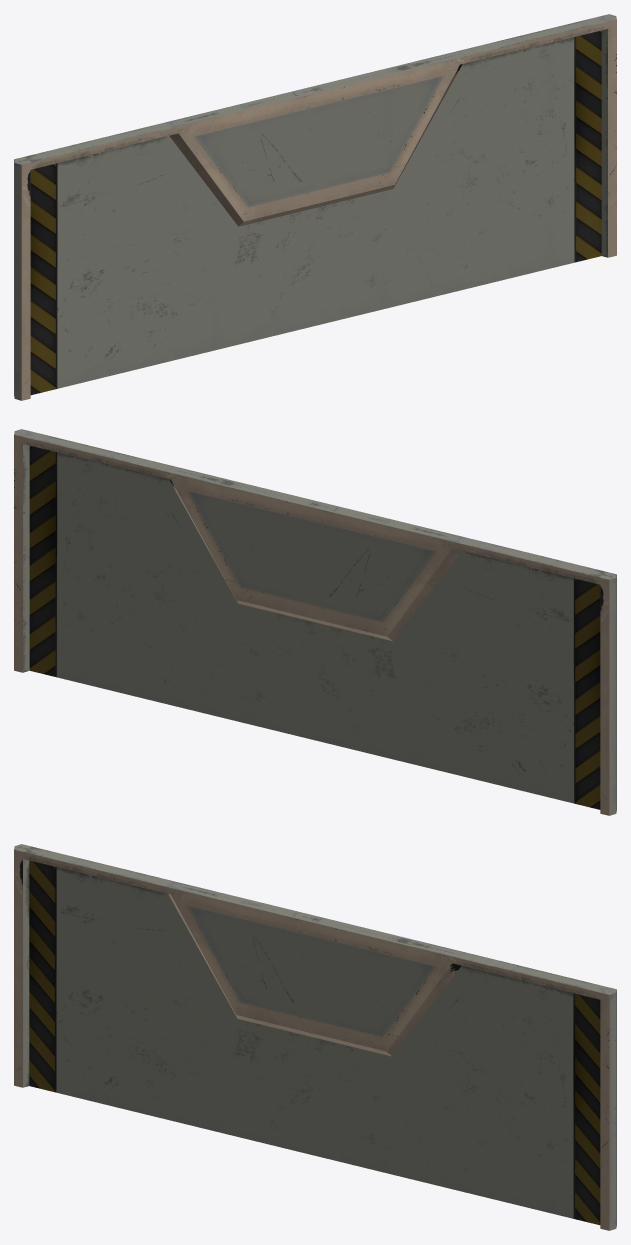
Rendered from Door_down_4x3.fbx.
3 renders of one model, top to bottom at view 1: azimuth 30°, elevation 25°; view 2: azimuth 150°, elevation 25°; view 3: azimuth 330°, elevation 25°, orthographic.
Visible parts, largest first — view 1: polySurface1; view 2: polySurface1; view 3: polySurface1.
Boxes of the visible parts, left/top/right/bottom form: polySurface1: left=14, top=14, right=616, bottom=400; polySurface1: left=14, top=429, right=616, bottom=815; polySurface1: left=14, top=844, right=616, bottom=1230.
Size of the model in its own units: 4 by 1.5 by 0.088.
